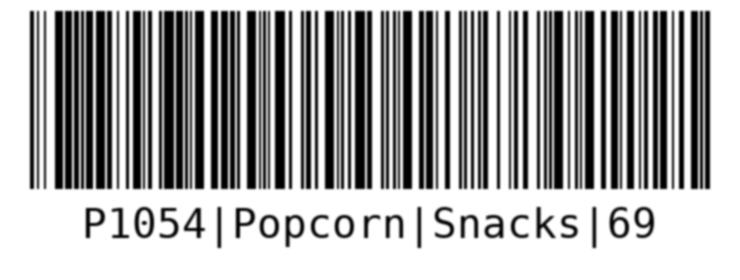milk: (24, 6, 717, 247)
